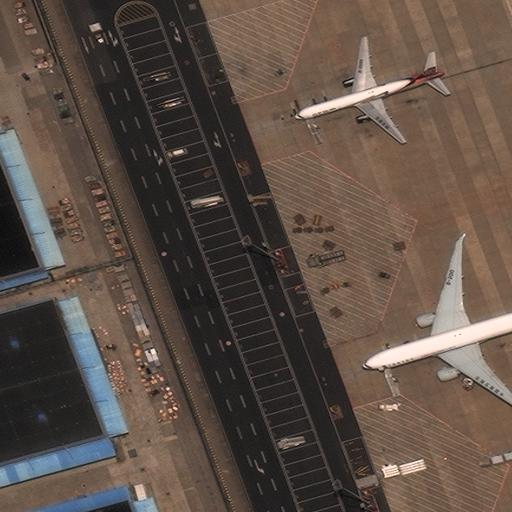Large Civil Transport: (362, 241, 512, 411), (294, 38, 444, 144)
